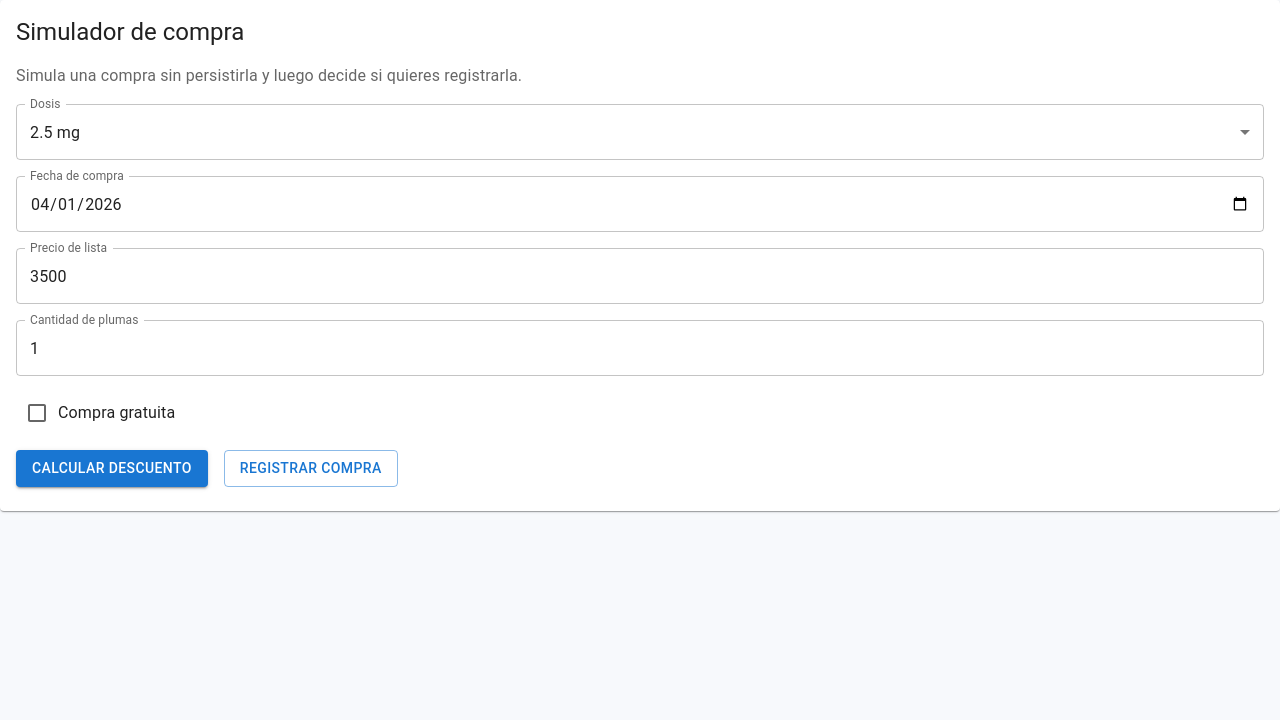
Test: SimulatorPage › renders the simulation result returned by the backend
The image size is (1280, 720).
Click the button "Calcular descuento": (112, 468) x1=16 y1=450 x2=208 y2=486
(page scrolled)
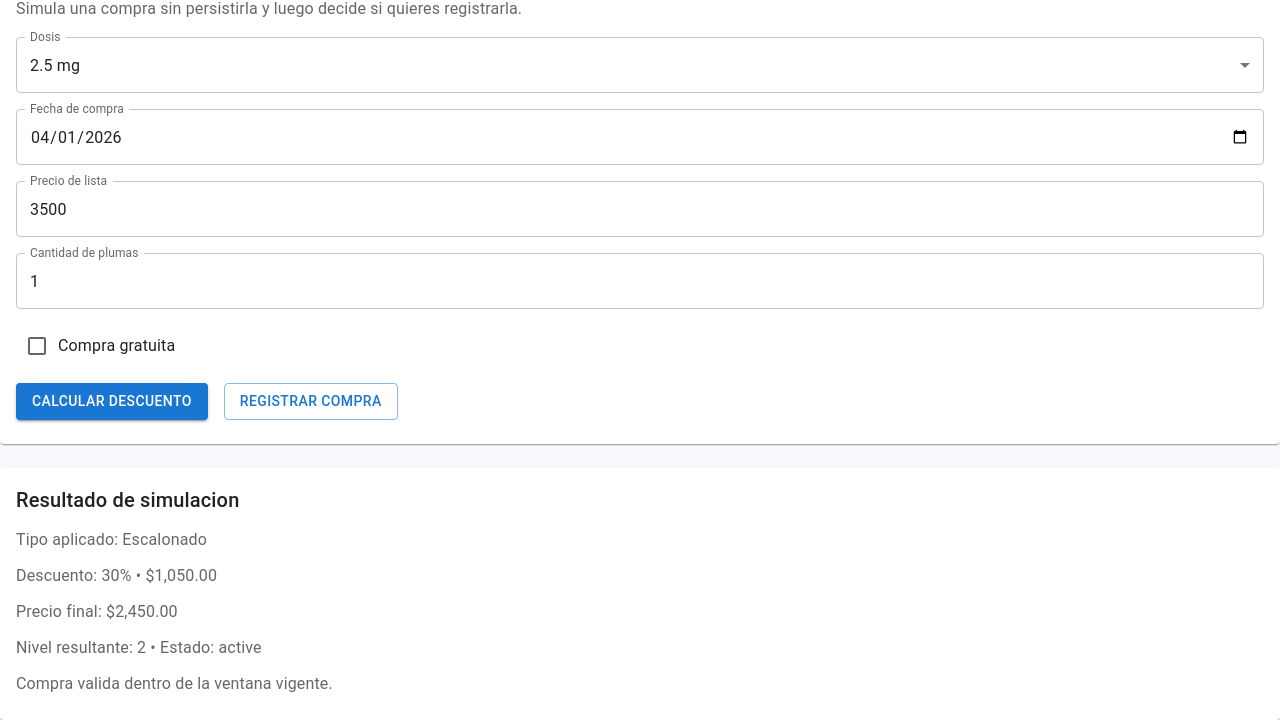
Result: the heading "Resultado de simulacion" is shown at x1=16 y1=488 x2=239 y2=512
Result: the text "Tipo aplicado: Escalonado" is shown at x1=16 y1=530 x2=207 y2=548
Result: the text "Descuento: 30% • $1,050.00" is shown at x1=16 y1=566 x2=217 y2=584
